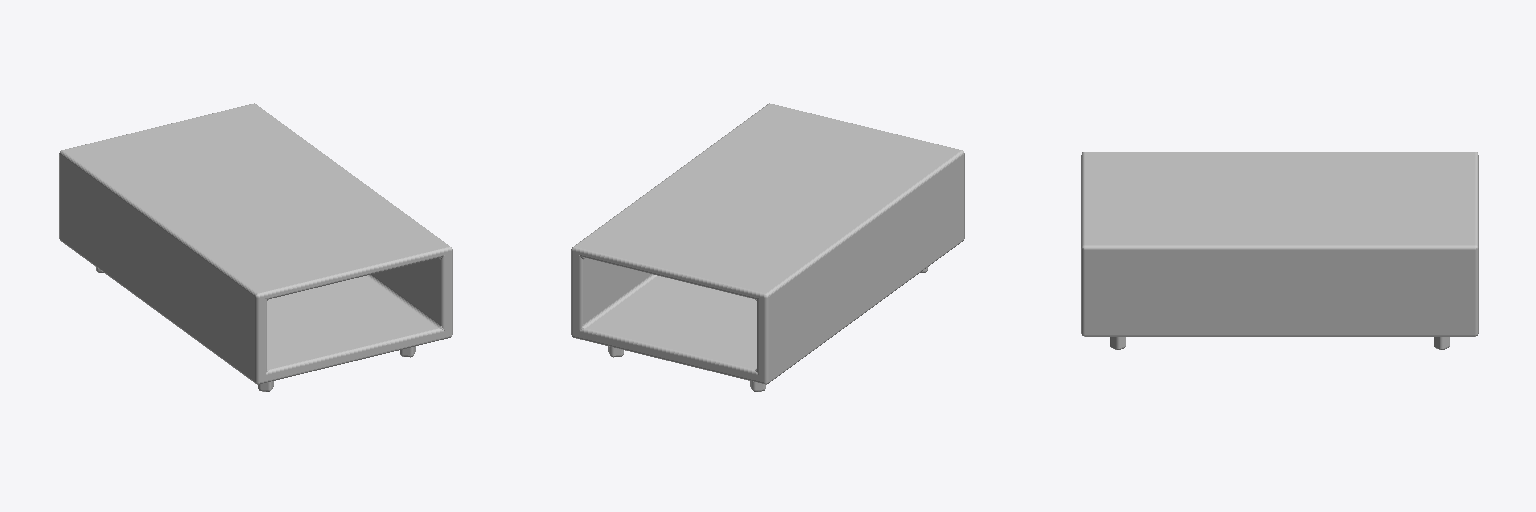
The model's file is drawer.obj.
3 views of the same model, side by side, from view 1: azimuth 30°, elevation 25°; view 2: azimuth 150°, elevation 25°; view 3: azimuth 270°, elevation 25° (orthographic).
Parts seen in each view (by area): view 1: drawer_Cube.006; view 2: drawer_Cube.006; view 3: drawer_Cube.006.
Part boxes in pixels (left/top/right/bottom): drawer_Cube.006: left=59, top=103, right=452, bottom=391; drawer_Cube.006: left=571, top=103, right=964, bottom=391; drawer_Cube.006: left=1081, top=152, right=1478, bottom=349.
Size of the model in its own units: 0.6986 by 0.3894 by 1.22.